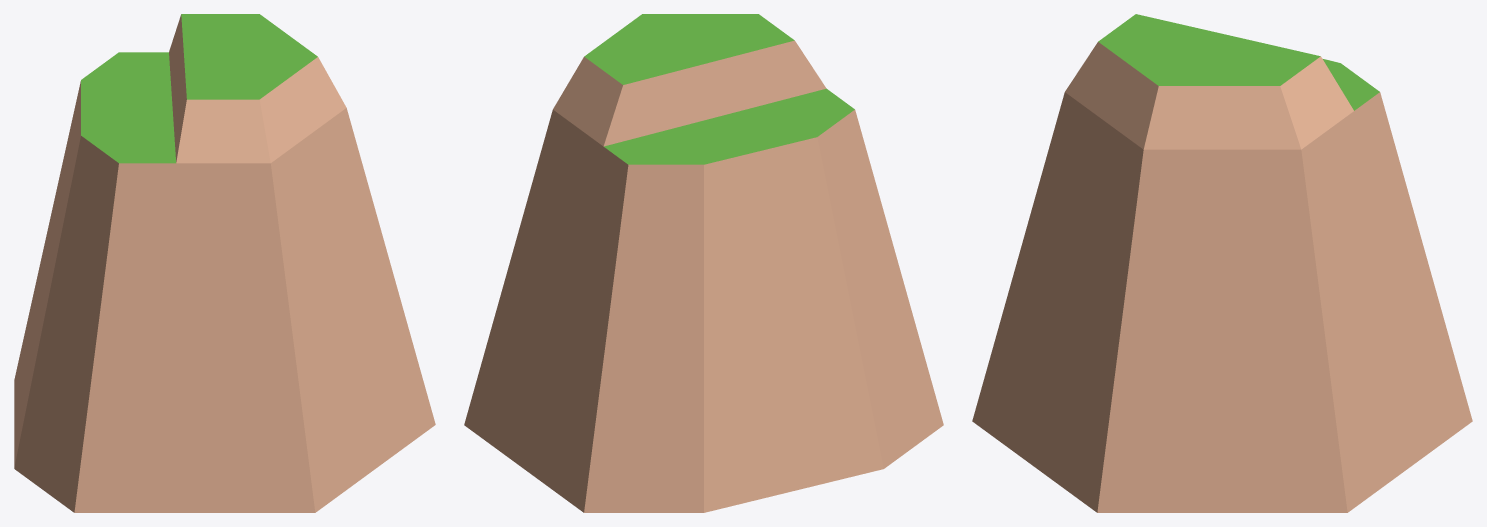
File: rock_4.fbx
The picture shows the model from 3 angles, left to right: view 1: azimuth 30°, elevation 25°; view 2: azimuth 150°, elevation 25°; view 3: azimuth 270°, elevation 25°; orthographic projection. The views are drawn at different scales.
Visible parts, largest first — view 1: rock_4; view 2: rock_4; view 3: rock_4.
Part boxes in pixels (<box>): rock_4: <box>14,14,435,512</box>; rock_4: <box>464,14,943,512</box>; rock_4: <box>972,14,1472,512</box>.
Size of the model in its own units: 0.4562 by 0.4438 by 0.5268.
Materials: 1 (1 with a texture image).
